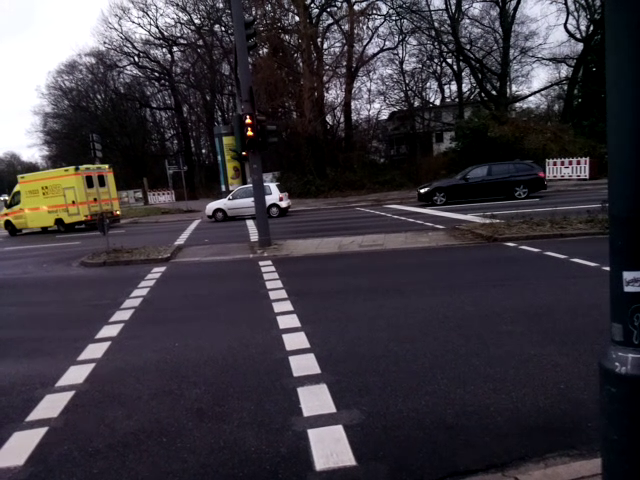car: (3, 155, 122, 247), (411, 161, 554, 201)
